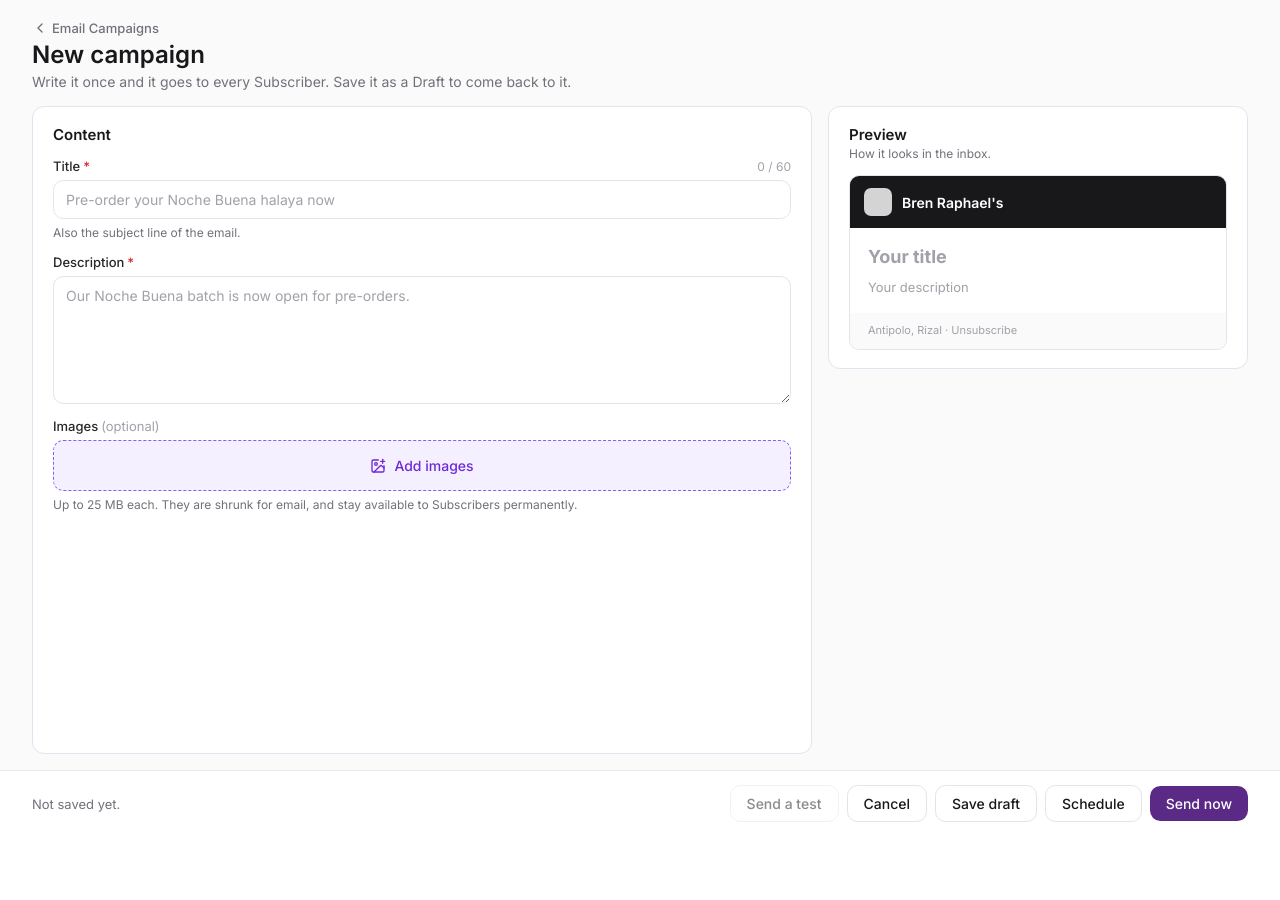
Scenario: the campaign form › counts the title against the limit
The image size is (1280, 900).
Type "Halaya" into the field labelled "Title *" at point(422, 200), box [53,180,791,219]
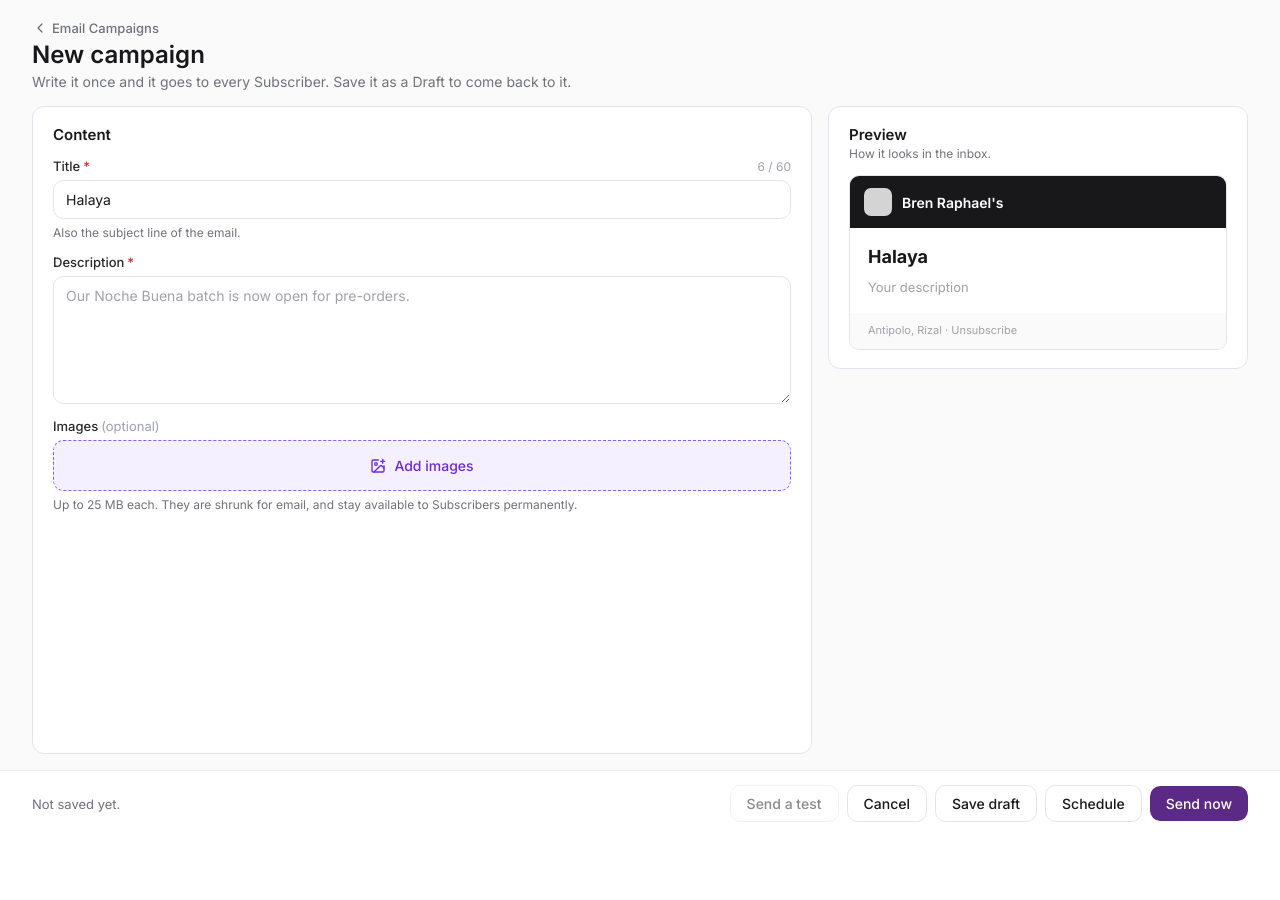
Now the text with test id "title-counter" reads "6 / 60", box [758,158,791,174]
